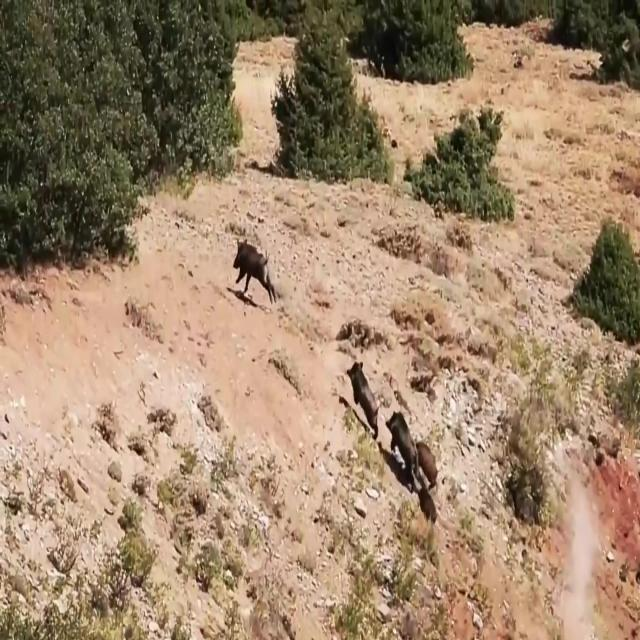pig: (226, 218, 293, 346), (327, 332, 380, 439), (389, 401, 426, 515)
